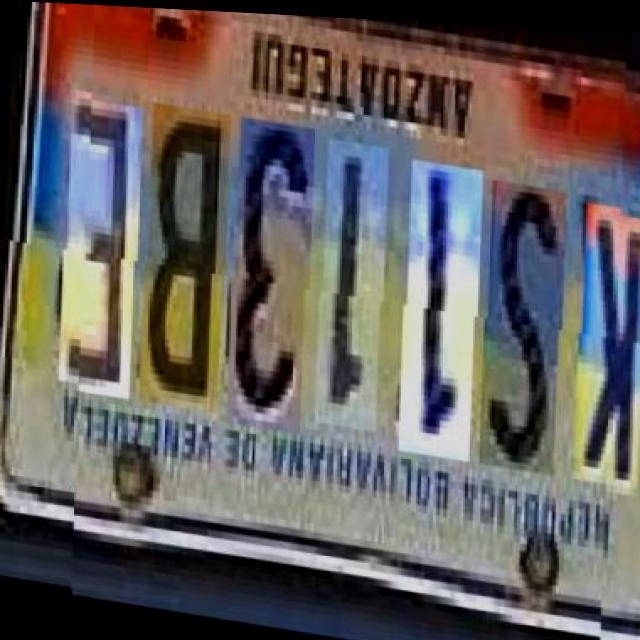1: (396, 161, 476, 462), (313, 143, 382, 436)
3: (224, 124, 308, 441)
b: (136, 112, 224, 422)
e: (57, 110, 136, 412)
k: (573, 198, 640, 484)
s: (477, 179, 560, 474)
